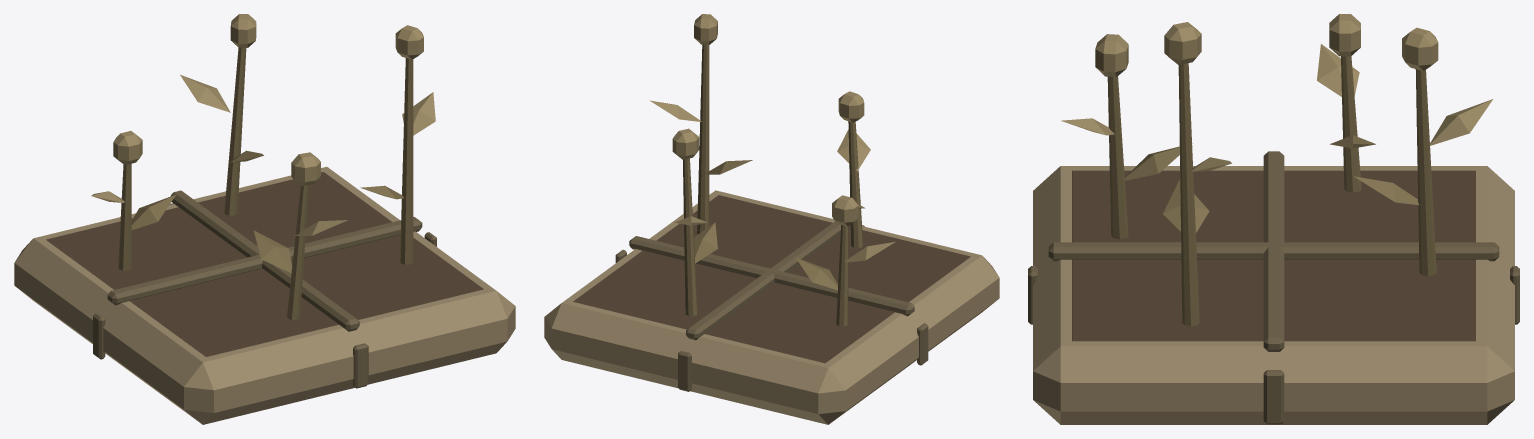
File: flowers_3_packed_autumn.glb
The picture shows the model from 3 angles, left to right: view 1: azimuth 30°, elevation 25°; view 2: azimuth 150°, elevation 25°; view 3: azimuth 270°, elevation 25°; orthographic projection. The views are drawn at different scales.
Parts seen in each view (by area): view 1: flowers_3_packed_autumn; view 2: flowers_3_packed_autumn; view 3: flowers_3_packed_autumn.
Part boxes in pixels (left/top/right/bottom): flowers_3_packed_autumn: left=14, top=14, right=515, bottom=424; flowers_3_packed_autumn: left=544, top=14, right=999, bottom=424; flowers_3_packed_autumn: left=1028, top=14, right=1519, bottom=424.
Size of the model in its own units: 1.25 by 1.05 by 1.25.
